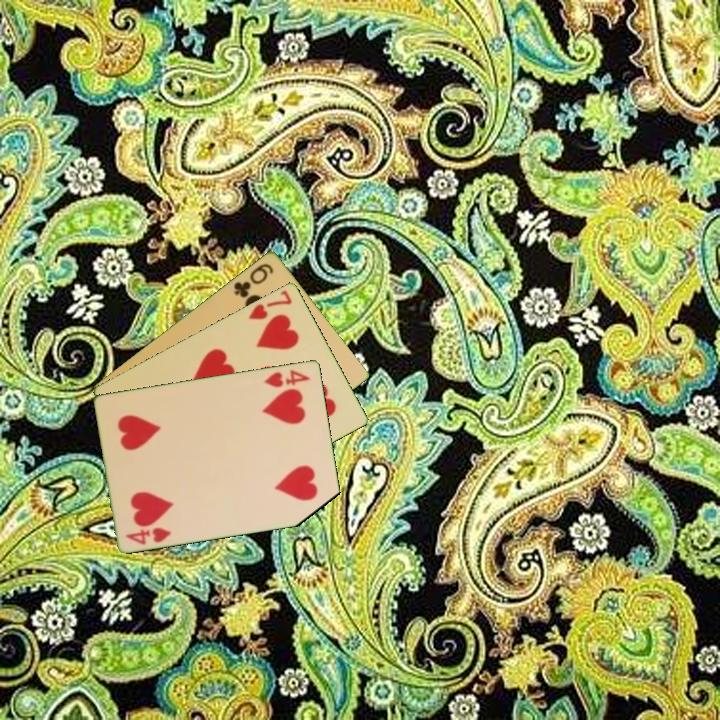4h: (122, 523, 175, 547), (261, 366, 313, 390)
6c: (230, 259, 276, 300)
7h: (245, 286, 295, 322)
